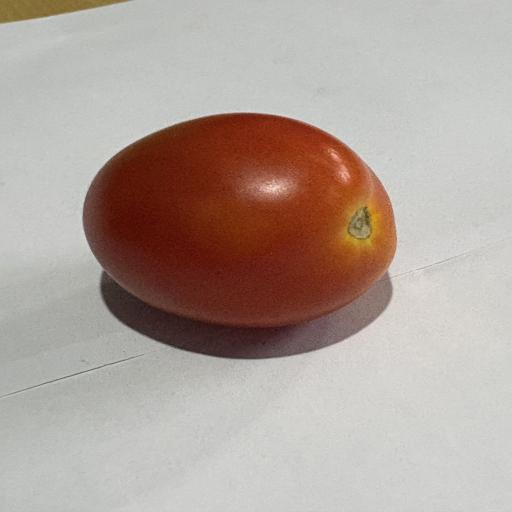ripe: (83, 113, 396, 327)
